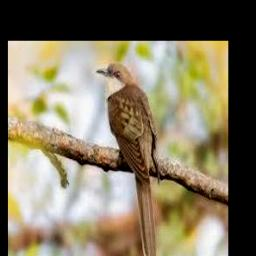Cuckoo: (96, 62, 159, 256)
